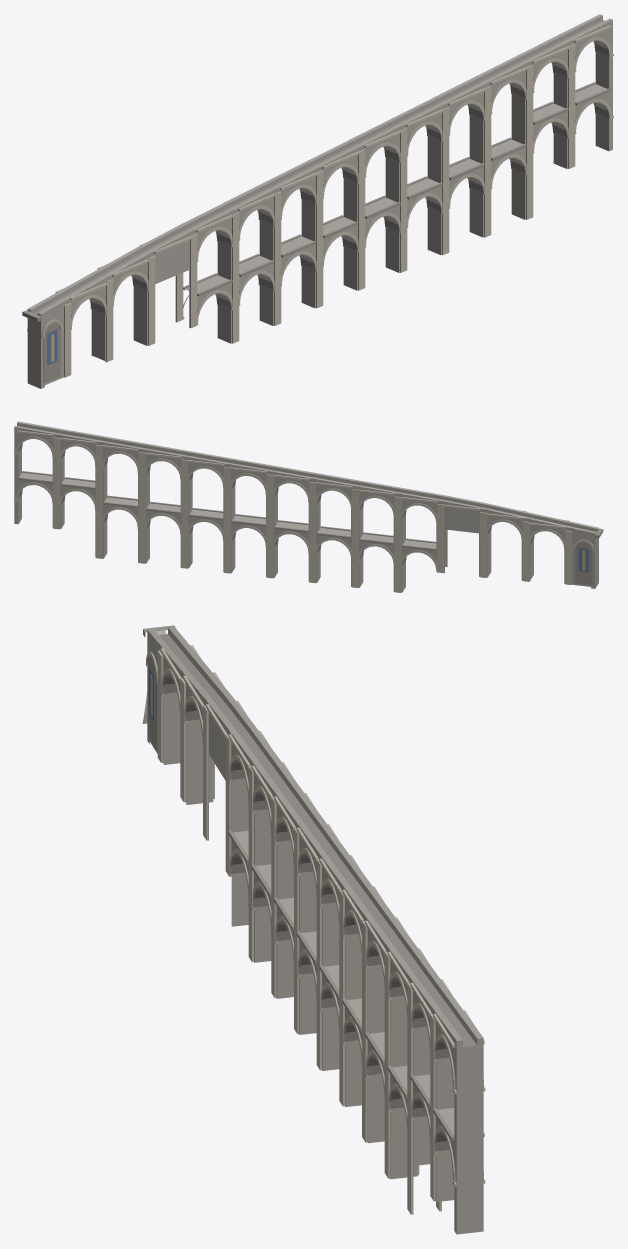
Rendered from aqueduct01.glb.
3 renders of one model, top to bottom at view 1: azimuth 30°, elevation 25°; view 2: azimuth 150°, elevation 25°; view 3: azimuth 270°, elevation 25°, orthographic. The views are drawn at different scales.
Parts seen in each view (by area): view 1: AQUEDUCT01_visible; view 2: AQUEDUCT01_visible; view 3: AQUEDUCT01_visible.
Part boxes in pixels (x1,y1,x2,y2): AQUEDUCT01_visible: [22, 14, 613, 388]; AQUEDUCT01_visible: [14, 421, 603, 592]; AQUEDUCT01_visible: [143, 625, 485, 1234].
Bounding box in the file's own units: 81.57 × 18.2 × 23.29.
